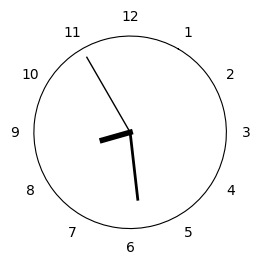12: (121, 9, 139, 23)
circle: (32, 35, 228, 229)
hours: (99, 129, 133, 143)
minutes: (128, 136, 139, 200)
seconds: (87, 57, 128, 128)
